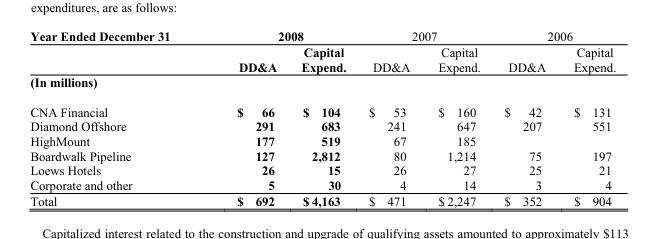table: (29, 28, 615, 207)
table column: (29, 28, 202, 207), (202, 28, 288, 207), (288, 28, 356, 207), (423, 28, 491, 207), (491, 28, 559, 207), (356, 28, 423, 207), (559, 28, 615, 207)
table column header: (29, 28, 615, 74)
table projected row header: (29, 74, 615, 96)
table row: (29, 43, 615, 74), (29, 74, 615, 96), (29, 96, 615, 118), (29, 28, 615, 43), (29, 118, 615, 133), (29, 133, 615, 148), (29, 162, 615, 177), (29, 177, 615, 192), (29, 192, 615, 207), (29, 148, 615, 162)
table spanning cell: (29, 28, 202, 74), (202, 28, 356, 43), (356, 28, 491, 43), (491, 28, 615, 43)
